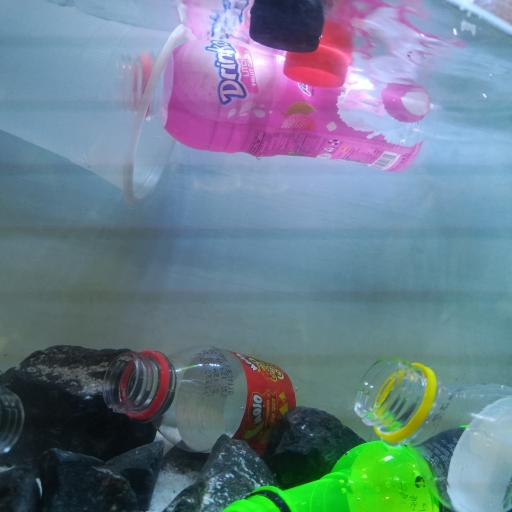bottle_cap: (247, 0, 325, 57), (276, 44, 352, 91)
plastic_bottle: (117, 23, 432, 180), (111, 348, 370, 455), (205, 426, 512, 512), (356, 355, 512, 511)
plastic_cup: (3, 6, 186, 200)
